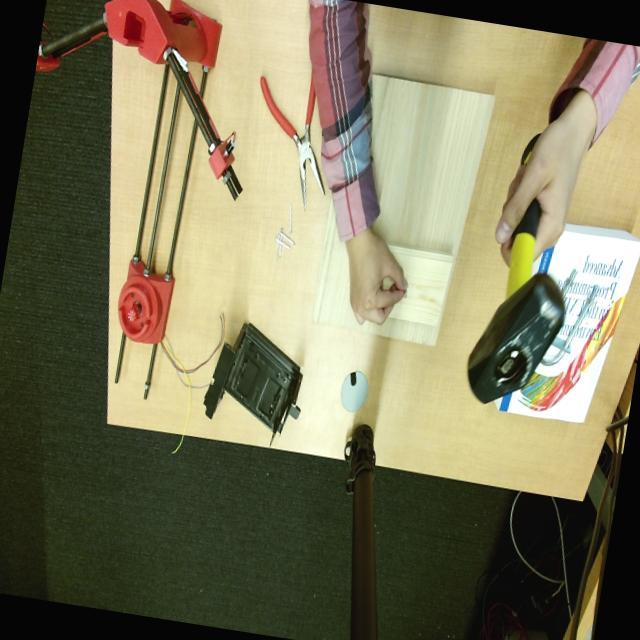hammer: (468, 199, 566, 402)
pliers: (260, 77, 324, 207)
